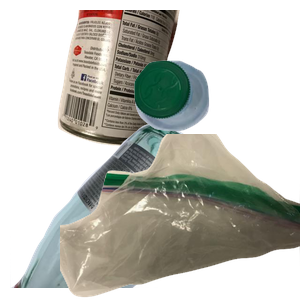glass: (10, 120, 224, 300)
metal: (55, 10, 227, 149)
plastic: (132, 58, 300, 182)
trash: (60, 134, 300, 300)
